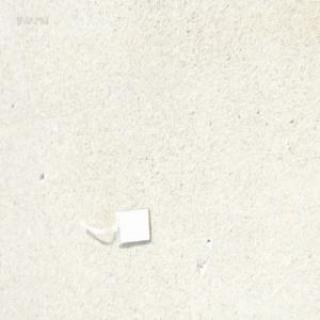LuggageTagtrack_idkeyframe: (78, 204, 152, 248)
